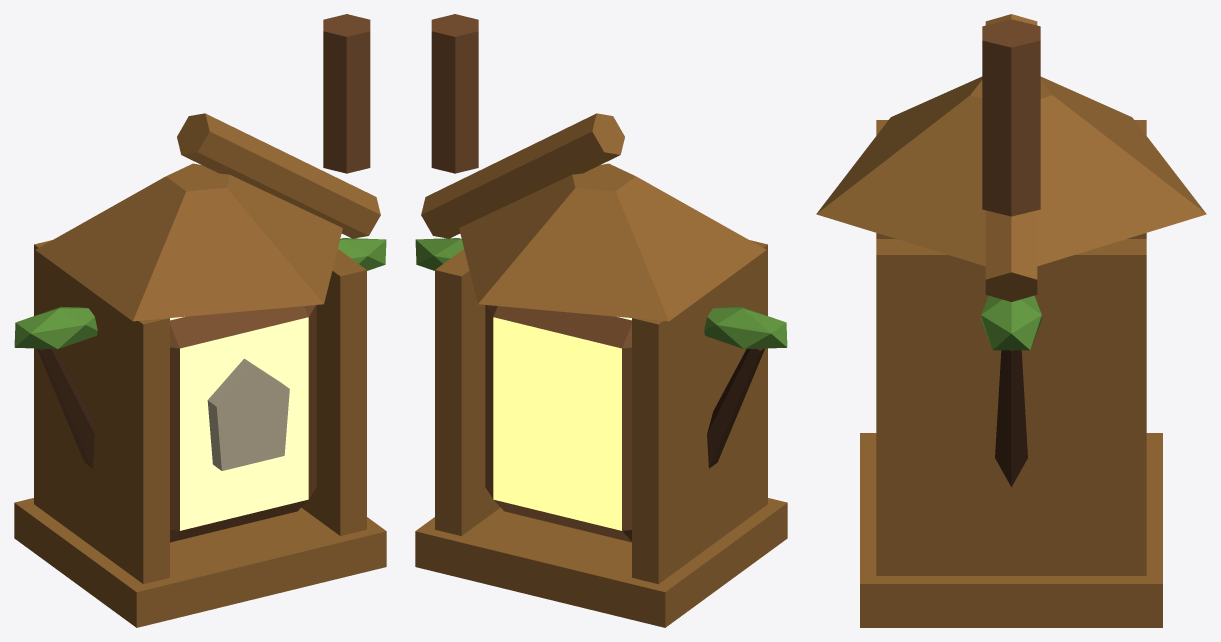
The model's file is warden_lantern.glb.
3 renders of one model, left to right at view 1: azimuth 30°, elevation 25°; view 2: azimuth 150°, elevation 25°; view 3: azimuth 270°, elevation 25°, orthographic. The views are drawn at different scales.
Parts seen in each view (by area): view 1: warden_lantern; view 2: warden_lantern; view 3: warden_lantern.
Boxes of the visible parts, x1=… form: warden_lantern: x1=14, y1=14, x2=386, y2=627; warden_lantern: x1=415, y1=14, x2=787, y2=627; warden_lantern: x1=816, y1=14, x2=1206, y2=627.
Size of the model in its own units: 0.7117 by 0.8986 by 0.524.
